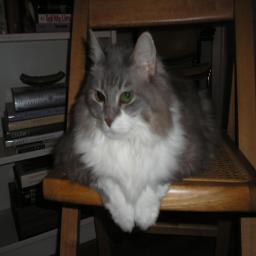catnose: (102, 114, 117, 130)
